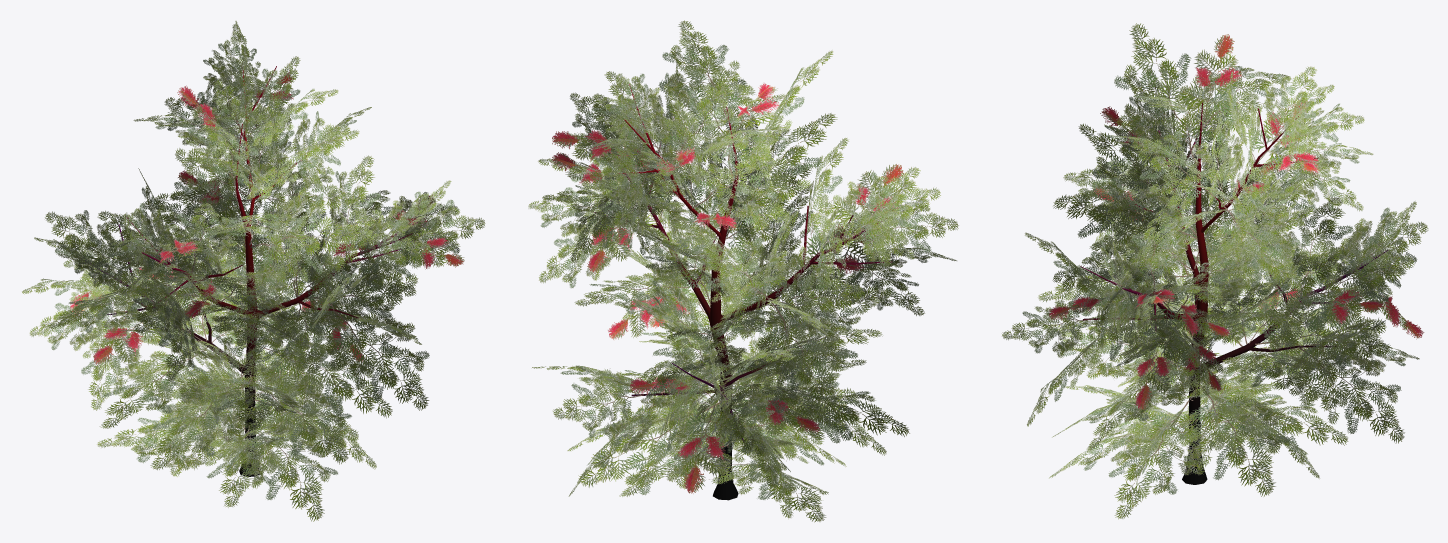
Rendered from GrevilleaLarge.fbx.
3 renders of one model, left to right at view 1: azimuth 30°, elevation 25°; view 2: azimuth 150°, elevation 25°; view 3: azimuth 270°, elevation 25°, orthographic. The views are drawn at different scales.
Parts seen in each view (by area): view 1: Grevillea_Leaves_LOD0, Grevillea_Trunk_LOD0; view 2: Grevillea_Leaves_LOD0, Grevillea_Trunk_LOD0; view 3: Grevillea_Leaves_LOD0, Grevillea_Trunk_LOD0.
Part boxes in pixels (<box>): Grevillea_Leaves_LOD0: <box>22,21,485,521</box>; Grevillea_Trunk_LOD0: <box>85,66,417,476</box>; Grevillea_Leaves_LOD0: <box>528,20,958,522</box>; Grevillea_Trunk_LOD0: <box>594,84,892,500</box>; Grevillea_Leaves_LOD0: <box>1002,23,1428,519</box>; Grevillea_Trunk_LOD0: <box>1080,102,1387,484</box>.
Size of what is drawn, in the model's own units: 144 by 156 by 139.
